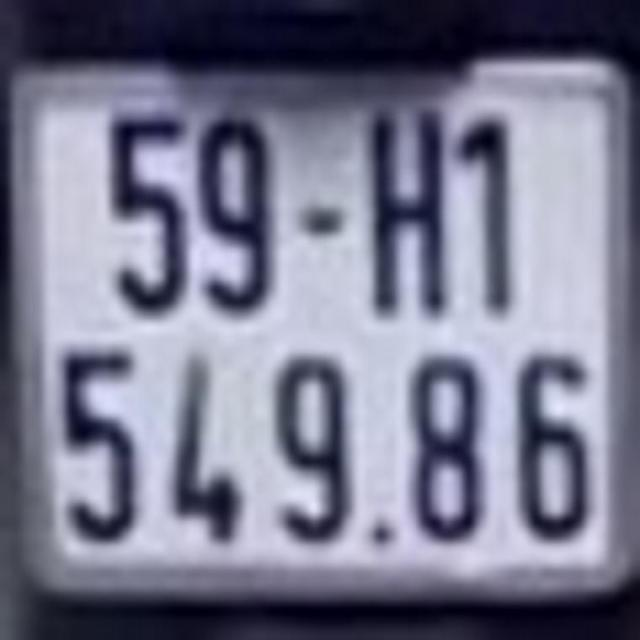1: (462, 114, 516, 316)
4: (178, 354, 234, 552)
5: (112, 114, 188, 309), (65, 357, 138, 540)
6: (523, 354, 585, 533)
8: (420, 368, 480, 538)
9: (204, 123, 271, 320), (271, 359, 340, 539)
H: (364, 114, 448, 317)
